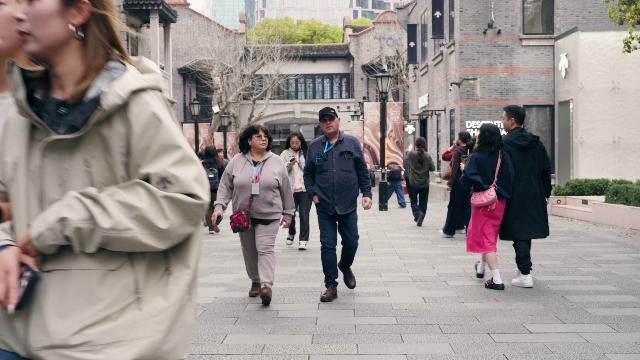person: (0, 0, 213, 360), (303, 106, 374, 302), (216, 122, 287, 313), (499, 104, 552, 288), (459, 123, 514, 291), (438, 130, 477, 238), (279, 130, 312, 251), (403, 136, 436, 227)
